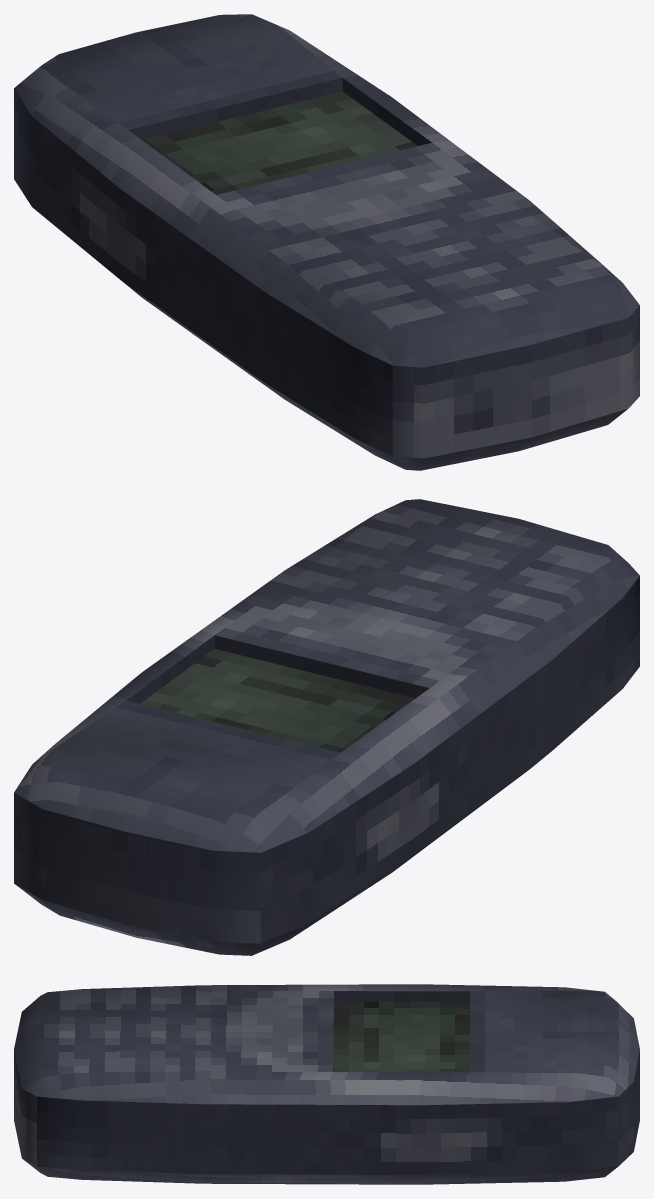
File: CellPhone2.glb
3 views of the same model, one above another, from view 1: azimuth 30°, elevation 25°; view 2: azimuth 150°, elevation 25°; view 3: azimuth 270°, elevation 25° (orthographic). The views are drawn at different scales.
Parts seen in each view (by area): view 1: cell_phone_2; view 2: cell_phone_2; view 3: cell_phone_2.
Part boxes in pixels (x1,y1,x2,y2): cell_phone_2: (14, 14, 639, 470); cell_phone_2: (14, 499, 639, 955); cell_phone_2: (14, 984, 639, 1184).
Bounding box in the file's own units: 0.0877 × 0.0396 × 0.2106.
Materials: 1 (1 with a texture image).
